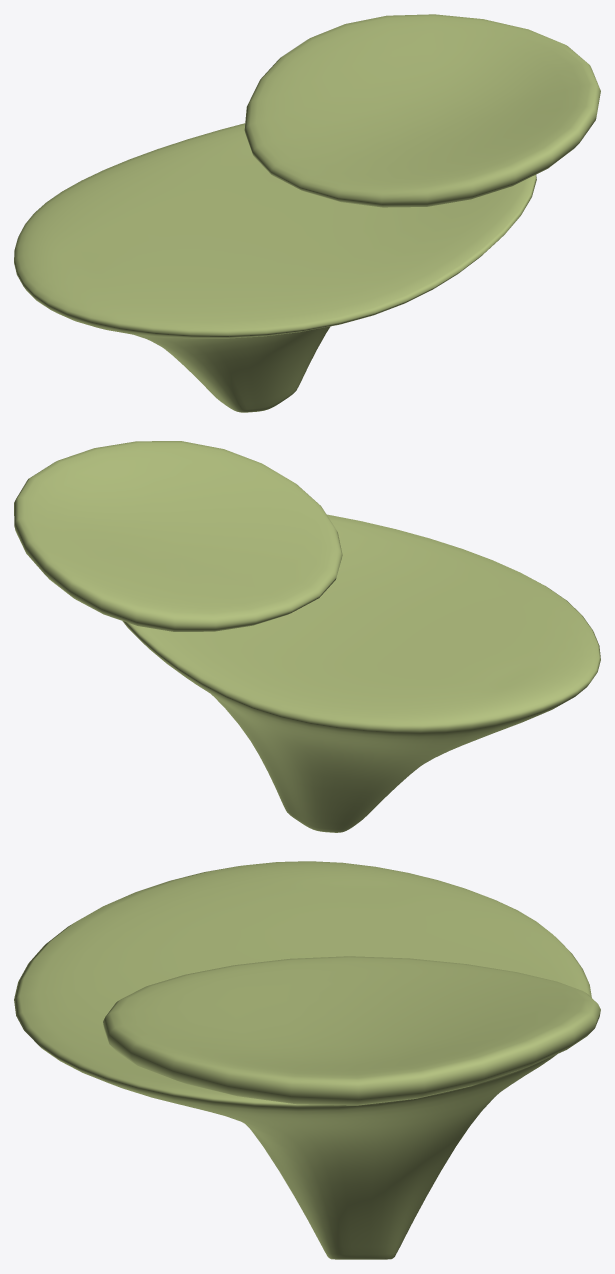
File: Coral_Table3.fbx
The picture shows the model from 3 angles, top to bottom: view 1: azimuth 30°, elevation 25°; view 2: azimuth 150°, elevation 25°; view 3: azimuth 270°, elevation 25°; orthographic projection. The views are drawn at different scales.
Visible parts, largest first — view 1: CoralT3; view 2: CoralT3; view 3: CoralT3.
Boxes of the visible parts, x1=… form: CoralT3: x1=14, y1=14, x2=600, y2=412; CoralT3: x1=14, y1=441, x2=600, y2=832; CoralT3: x1=14, y1=861, x2=600, y2=1259.
Size of the model in its own units: 12.69 by 6.18 by 8.87.
